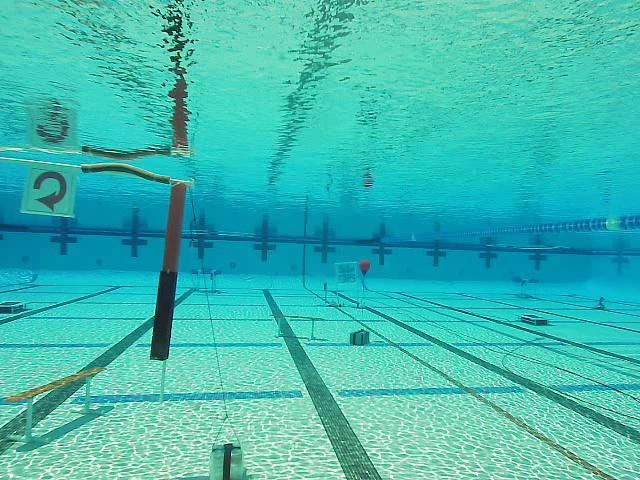buoy: (359, 259, 371, 277)
dropper: (517, 312, 550, 329), (2, 296, 28, 317)
gate_leg_r: (149, 179, 191, 361)
gate_red: (24, 166, 76, 217)
table: (189, 267, 223, 295)
torpedo: (333, 259, 357, 286)
